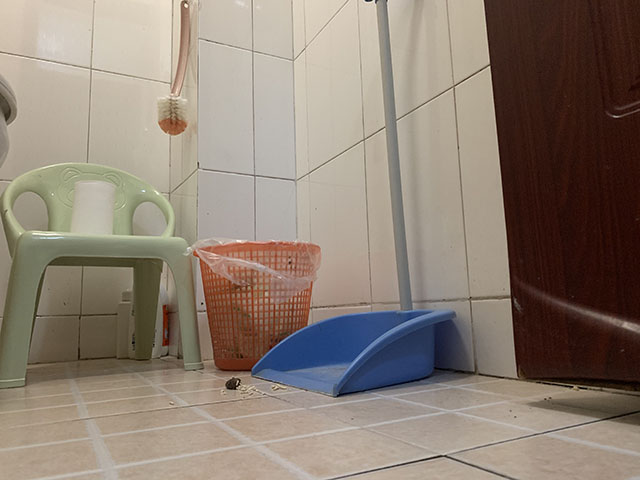stool: (1, 161, 205, 389)
trashcan: (193, 239, 322, 373)
